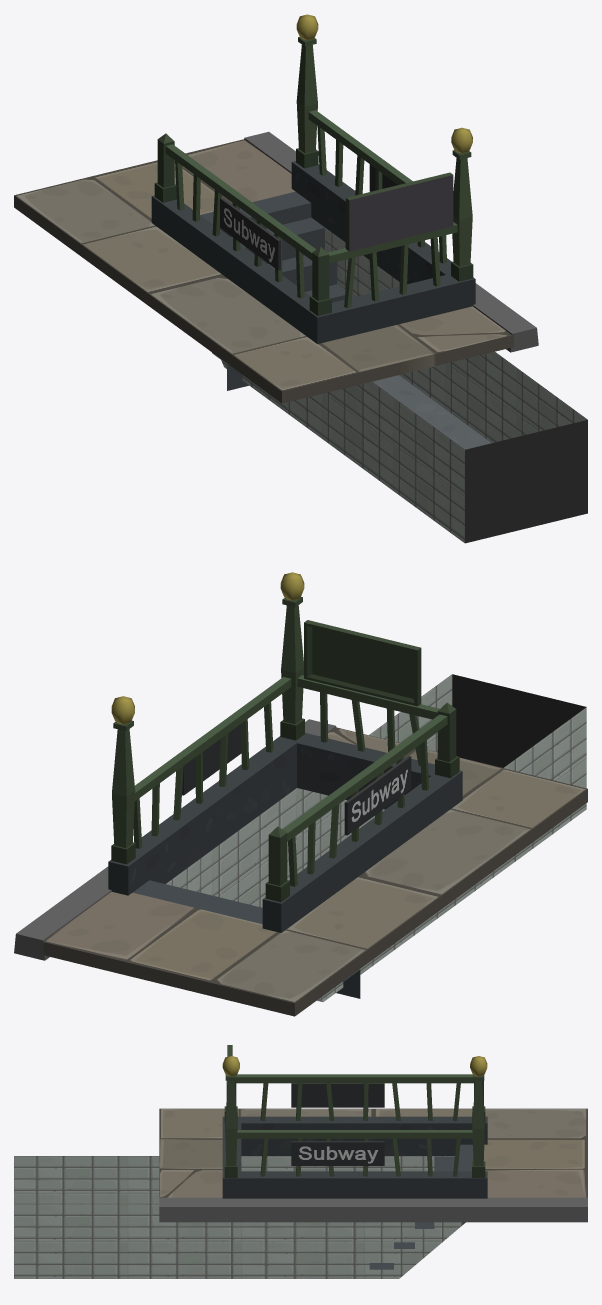
The model's file is Subway_01.fbx.
3 views of the same model, one above another, from view 1: azimuth 30°, elevation 25°; view 2: azimuth 150°, elevation 25°; view 3: azimuth 270°, elevation 25° (orthographic). The views are drawn at different scales.
Visible parts, largest first — view 1: Subway_01; view 2: Subway_01; view 3: Subway_01.
Part boxes in pixels (bbox=[...]): Subway_01: bbox=[14, 14, 587, 543]; Subway_01: bbox=[14, 572, 587, 1016]; Subway_01: bbox=[14, 1045, 587, 1278].
Bounding box in the file's own units: 443 × 478 × 1071.
